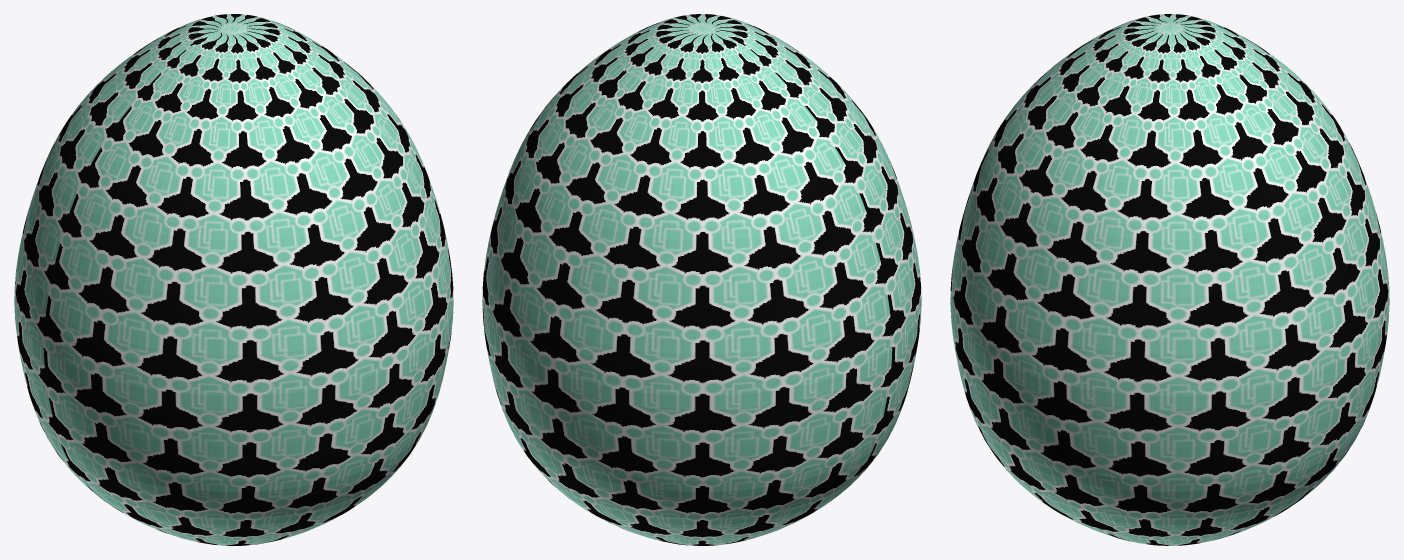
The model's file is egg_uvsphere_tile.glb.
The picture shows the model from 3 angles, left to right: view 1: azimuth 30°, elevation 25°; view 2: azimuth 150°, elevation 25°; view 3: azimuth 270°, elevation 25°; orthographic projection.
Visible parts, largest first — view 1: Sphere; view 2: Sphere; view 3: Sphere.
Part boxes in pixels (x1=…): Sphere: x1=14, y1=14, x2=453, y2=545; Sphere: x1=482, y1=14, x2=921, y2=545; Sphere: x1=950, y1=14, x2=1389, y2=545.
Bounding box in the file's own units: 0.8138 × 1.03 × 0.8138.
1 material, 1 textured.
